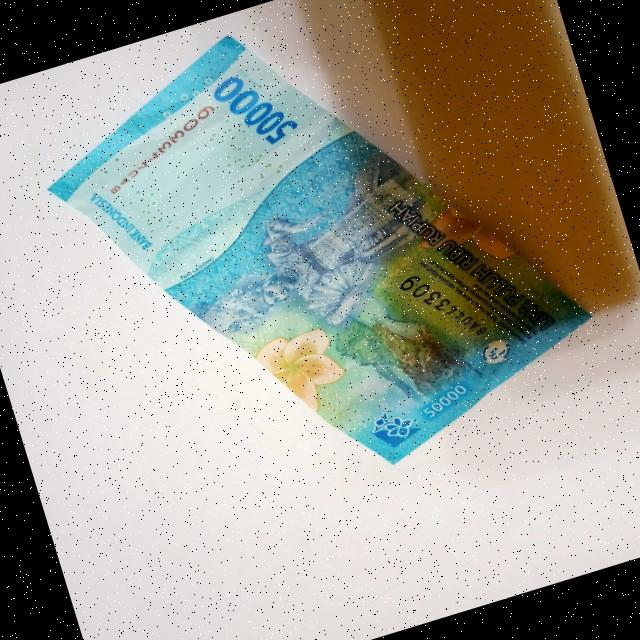50K: (11, 0, 623, 545)
